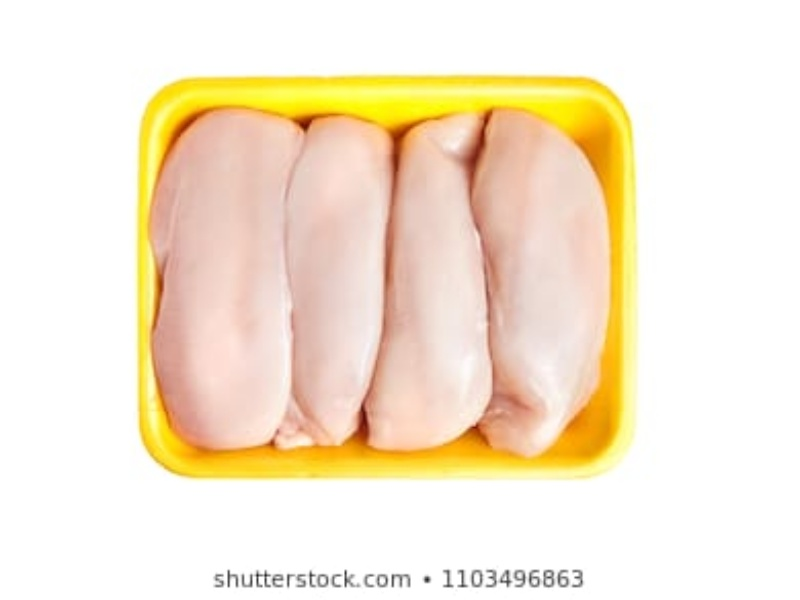plastic-tray: (121, 68, 633, 483)
